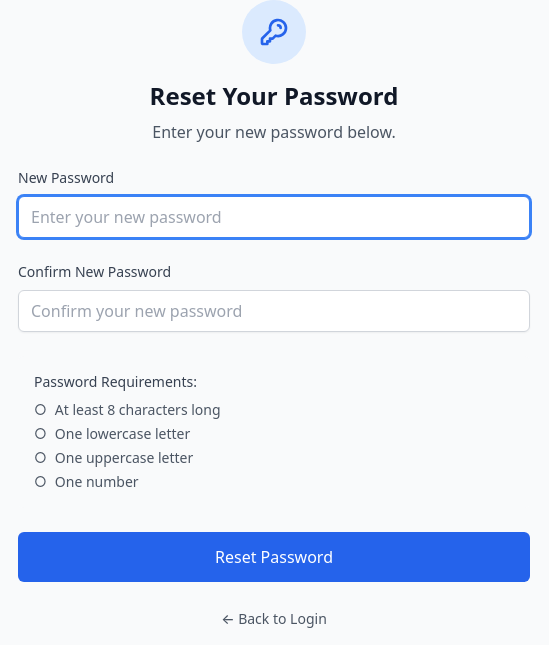
Scenario: ResetPassword Component › API Integration › shows success message when password reset is successful
The width and height of the screenshot is (549, 645).
In the password field labelled "New Password": (274,217) [18,196,530,238], type "NewPassword123"
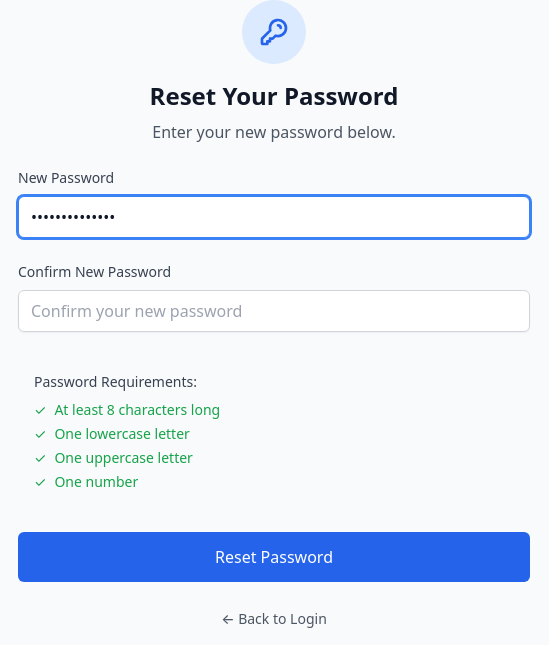
In the password field labelled "Confirm New Password": (274,311) [18,290,530,332], type "NewPassword123"
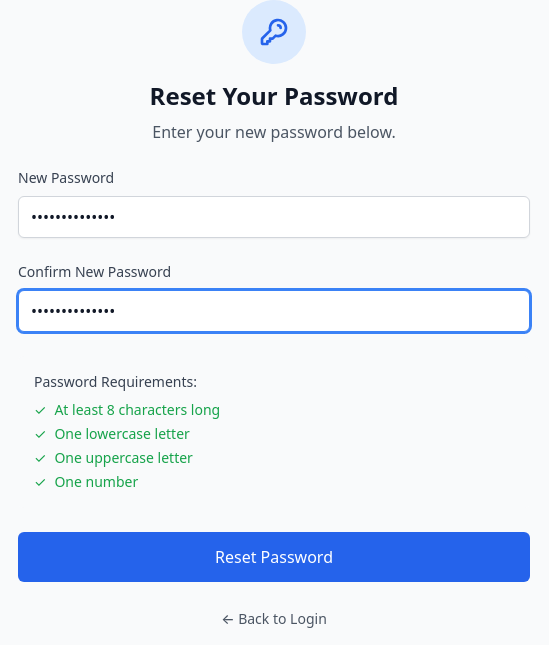
Click the button "Reset Password": (274,557) [18,532,530,582]
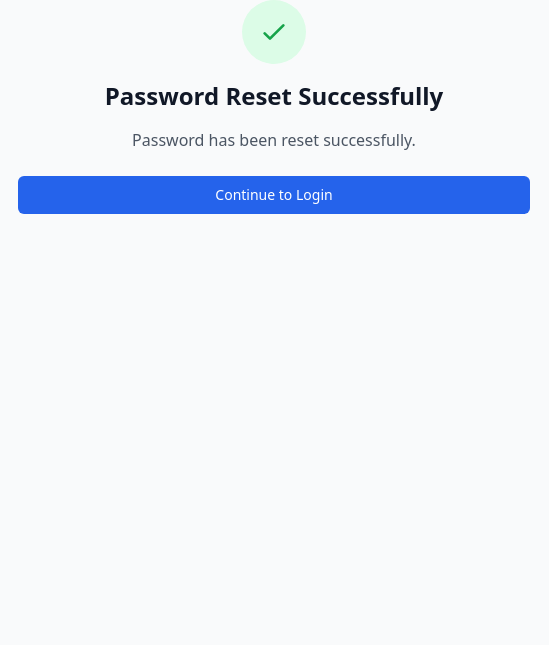
Result: the heading "Password Reset Successfully" is shown at [105,79,443,112]
Result: the text "Password has been reset successfully." is shown at [132,129,416,151]
